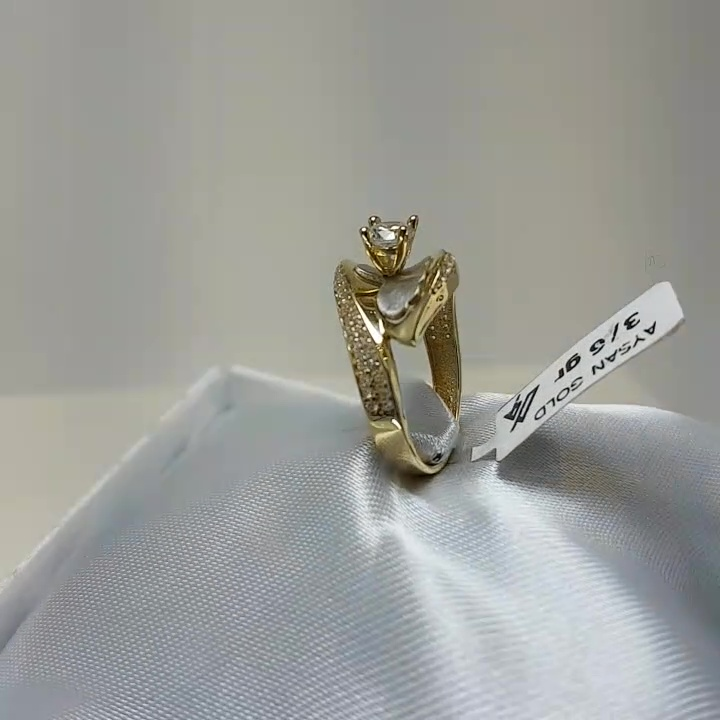Ring 6: (320, 182, 538, 485)
